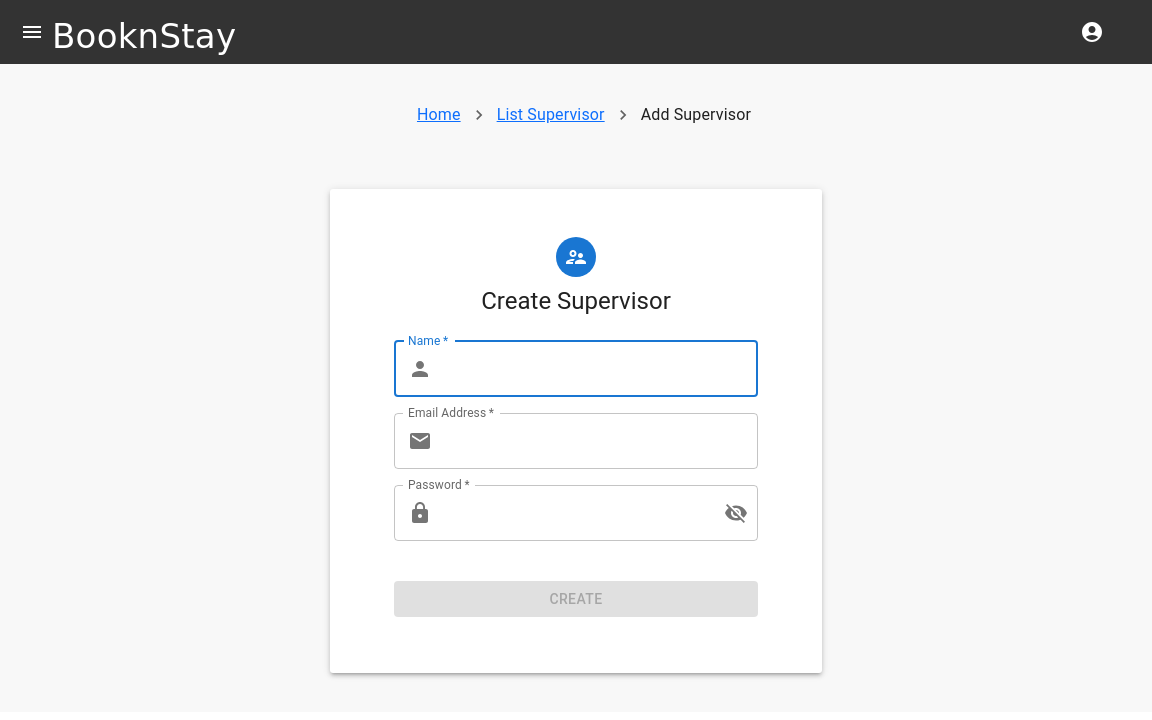
Scenario: testing add supervisor components › show error message for invalid email
Type "12" into the field labelled "Email Address *" at x=599, y=441, box [440, 413, 758, 469]
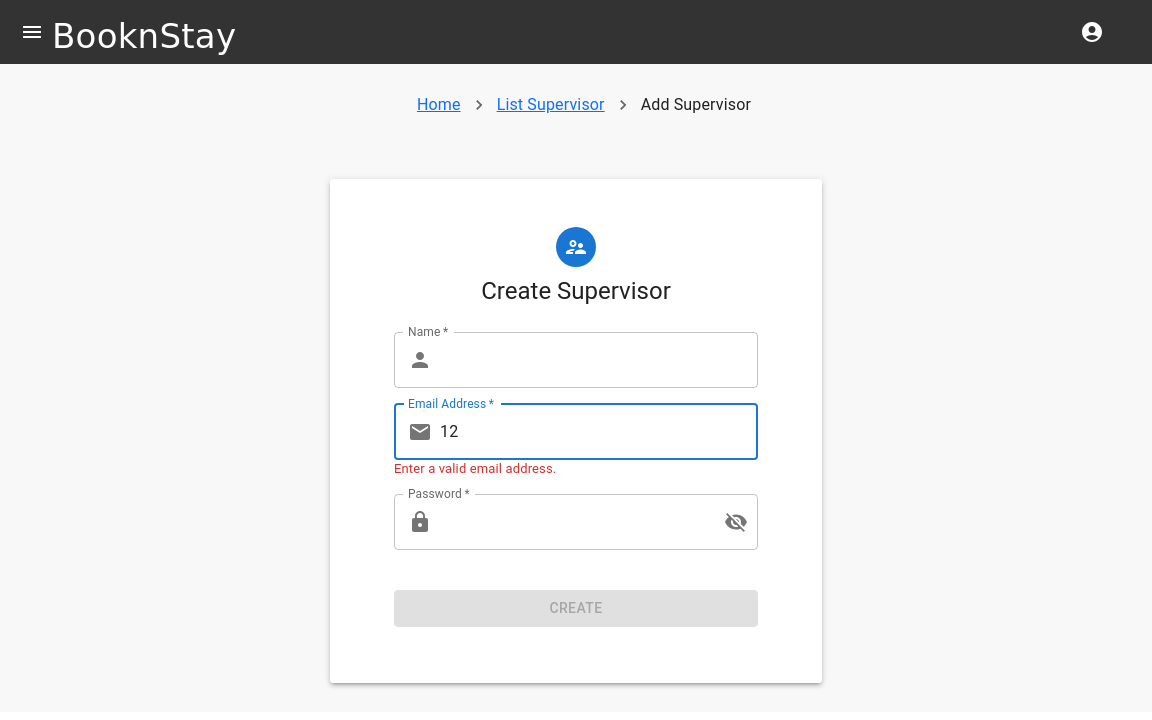
Expected: the text "Enter a valid email address." is shown, [394, 460, 556, 476]
